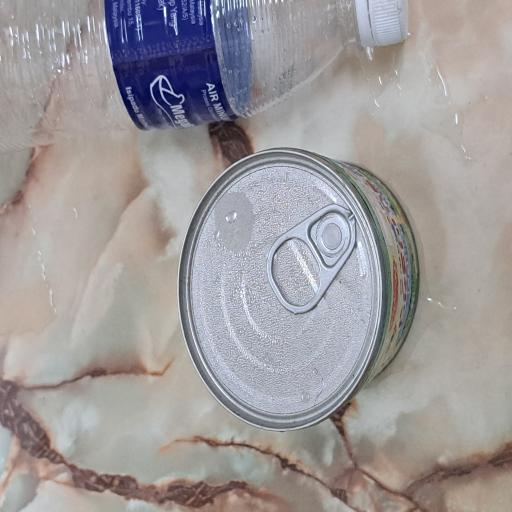can: (58, 235, 272, 512)
plastic bottle: (275, 0, 384, 482)
plastic bottle cap: (350, 478, 384, 512)
pop tab: (148, 356, 230, 474)
